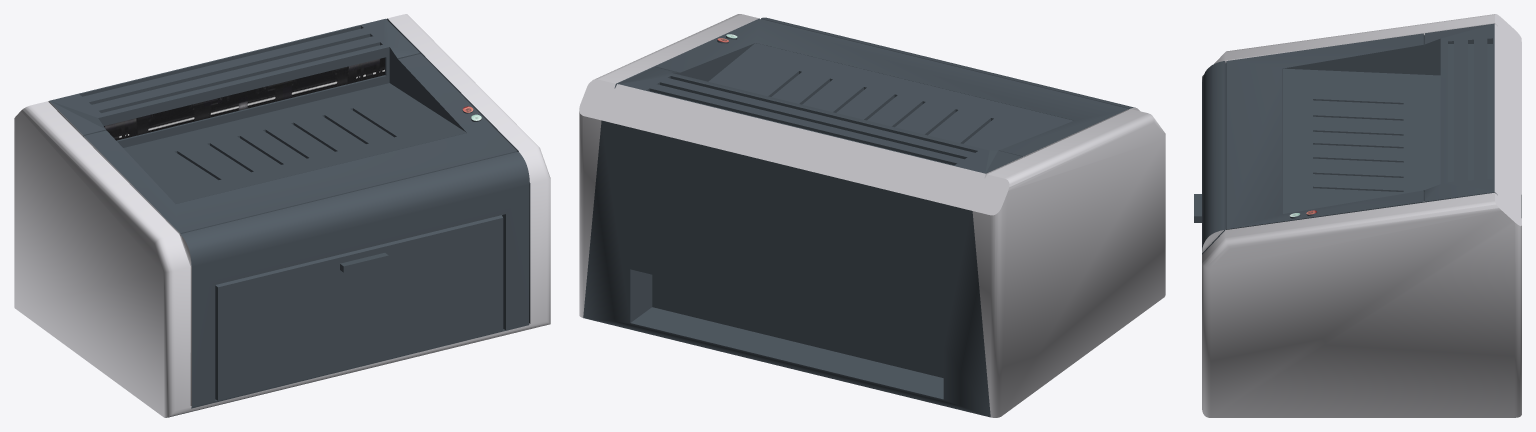
Rendered from Printer.FBX.
The picture shows the model from 3 angles, left to right: view 1: azimuth 30°, elevation 25°; view 2: azimuth 150°, elevation 25°; view 3: azimuth 270°, elevation 25°; orthographic projection. The views are drawn at different scales.
Visible parts, largest first — view 1: Printer; view 2: Printer; view 3: Printer.
Part boxes in pixels (x1,y1,x2,y2): Printer: [14, 14, 550, 417]; Printer: [579, 14, 1165, 417]; Printer: [1194, 14, 1521, 417].
Bounding box in the file's own units: 145 × 76.16 × 104.
Materials: 1 (1 with a texture image).
